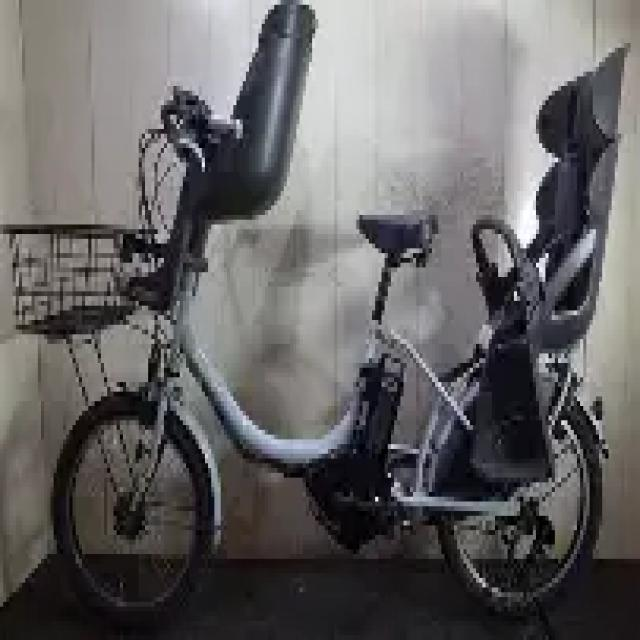basket: (1, 213, 158, 332)
battery: (342, 356, 407, 475)
childseat: (451, 39, 634, 504), (140, 2, 320, 296)
